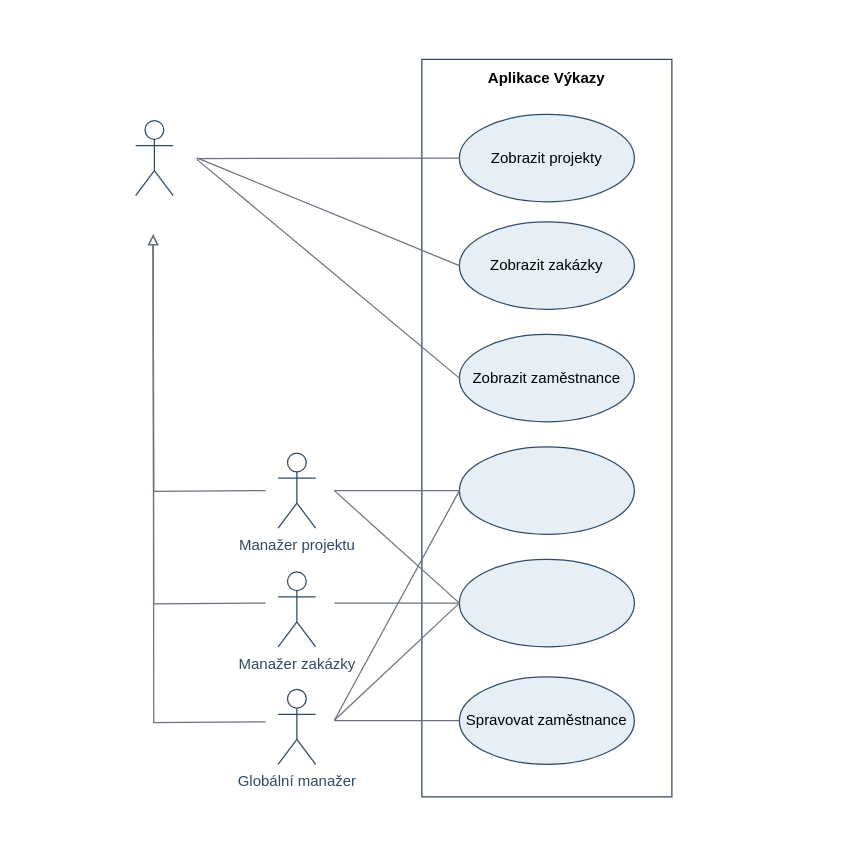
This 843x868 diagram has some shape labels left out. Here are the shapes that lost their labels. From the top down, the box of each, then its label:
(134, 119, 173, 196): Zaměstnanec
(458, 446, 634, 534): Spravovat projekty
(458, 558, 634, 647): Spravovat zakázky
